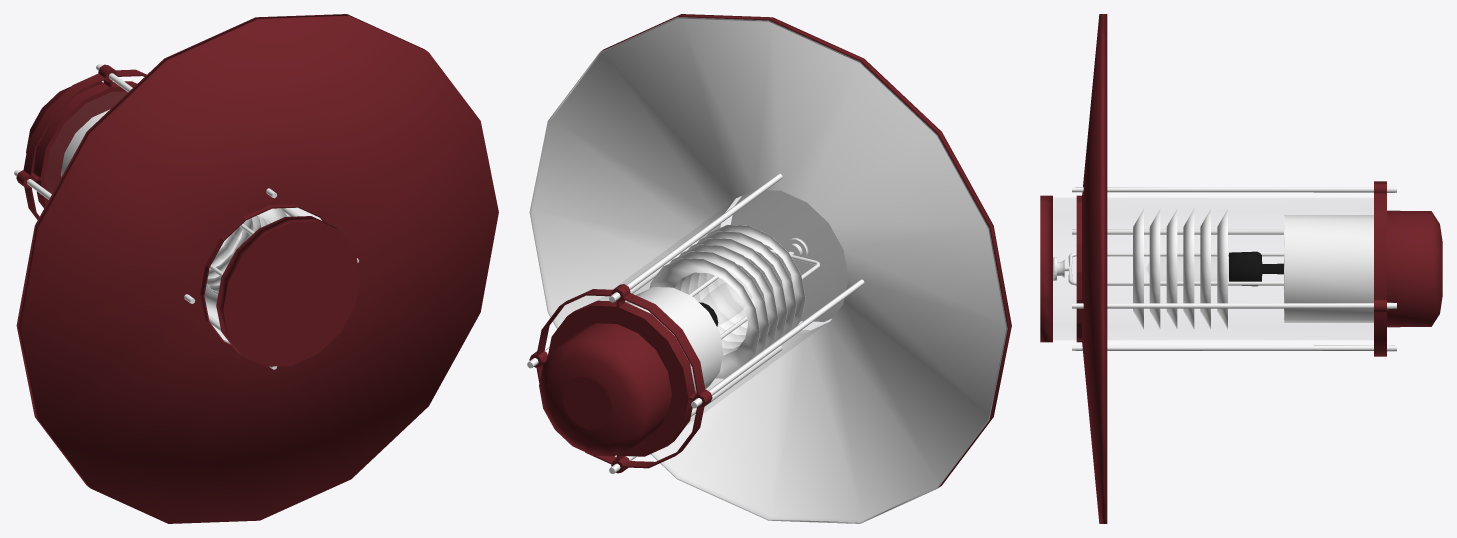
File: City-Light_Plus.obj
3 views of the same model, side by side, from view 1: azimuth 30°, elevation 25°; view 2: azimuth 150°, elevation 25°; view 3: azimuth 270°, elevation 25° (orthographic). The views are drawn at different scales.
Parts seen in each view (by area): view 1: Siteco_City-Light_Plus_BezierCurve.006; view 2: Siteco_City-Light_Plus_BezierCurve.006, Siteco_City-Light__Glass_BezierCurve.002; view 3: Siteco_City-Light_Plus_BezierCurve.006, Siteco_City-Light__Glass_BezierCurve.002.
Boxes of the visible parts, left/top/right/bottom form: Siteco_City-Light_Plus_BezierCurve.006: left=14, top=14, right=498, bottom=523; Siteco_City-Light_Plus_BezierCurve.006: left=527, top=14, right=1011, bottom=523; Siteco_City-Light__Glass_BezierCurve.002: left=599, top=195, right=833, bottom=423; Siteco_City-Light_Plus_BezierCurve.006: left=1040, top=14, right=1442, bottom=523; Siteco_City-Light__Glass_BezierCurve.002: left=1053, top=198, right=1373, bottom=339.
Size of the model in its own units: 0.7528 by 0.7528 by 0.5934.
5 materials, 4 textured.
